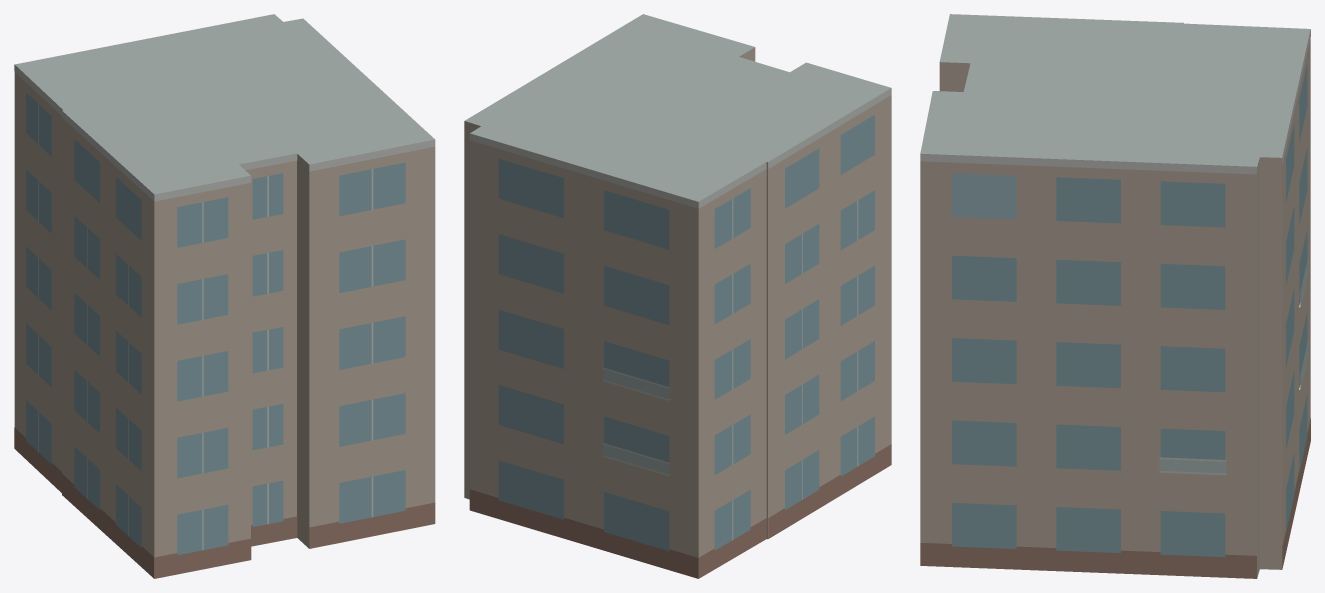
The model's file is survey-upis-32528244.glb.
3 renders of one model, left to right at view 1: azimuth 30°, elevation 25°; view 2: azimuth 150°, elevation 25°; view 3: azimuth 270°, elevation 25°, orthographic. The views are drawn at different scales.
Visible parts, largest first — view 1: survey-upis-32528244.tmp; view 2: survey-upis-32528244.tmp; view 3: survey-upis-32528244.tmp.
Boxes of the visible parts, x1=… form: survey-upis-32528244.tmp: x1=14, y1=14, x2=435, y2=578; survey-upis-32528244.tmp: x1=464, y1=14, x2=891, y2=578; survey-upis-32528244.tmp: x1=920, y1=14, x2=1310, y2=578.
Bounding box in the file's own units: 10.51 × 13.2 × 11.35.
